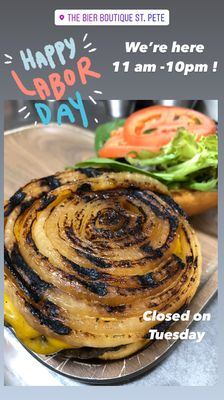soup: (3, 165, 207, 360), (92, 105, 219, 216)
